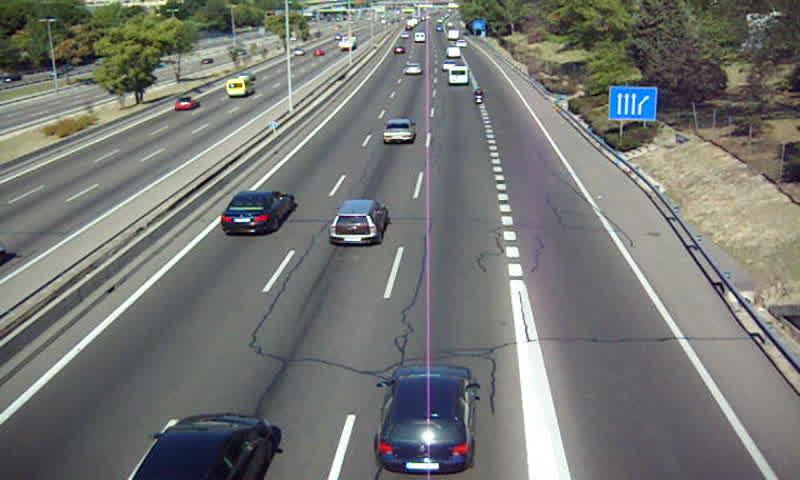car: (377, 364, 471, 473), (134, 413, 271, 480), (219, 191, 293, 234), (326, 200, 387, 244), (381, 119, 414, 145), (404, 62, 422, 76)
motorcycle: (474, 86, 486, 104)
van: (448, 66, 469, 86), (448, 47, 463, 59)
